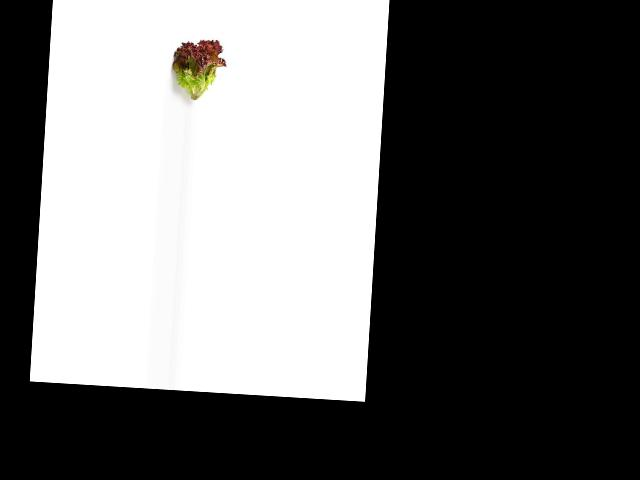lettuce: (168, 34, 226, 109)
